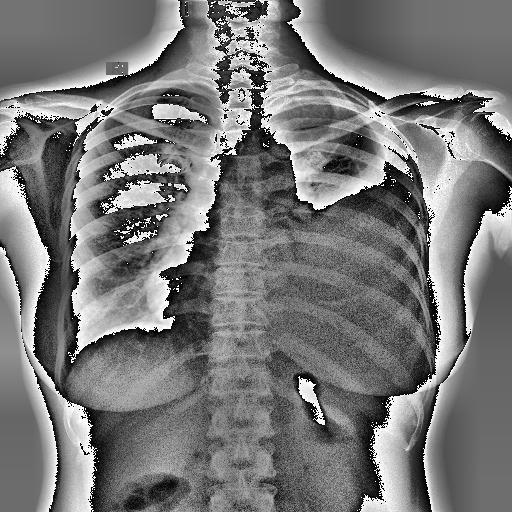10- Pleural effusion: (262, 86, 428, 337), (296, 112, 418, 340), (302, 126, 424, 352)
